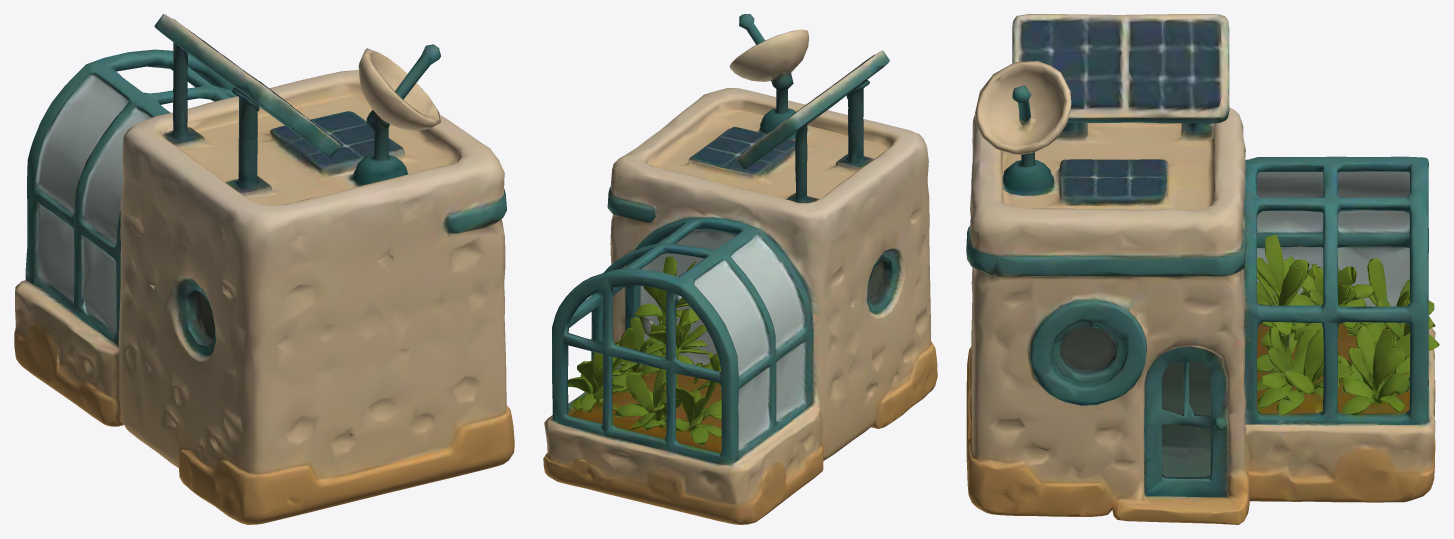
The model's file is lab.glb.
3 renders of one model, left to right at view 1: azimuth 30°, elevation 25°; view 2: azimuth 150°, elevation 25°; view 3: azimuth 270°, elevation 25°, orthographic. The views are drawn at different scales.
Visible parts, largest first — view 1: tripo_node_7aa9dd98-f0ed-4bf8-b4dc-1bf23662b46a; view 2: tripo_node_7aa9dd98-f0ed-4bf8-b4dc-1bf23662b46a; view 3: tripo_node_7aa9dd98-f0ed-4bf8-b4dc-1bf23662b46a.
Part boxes in pixels (bbox=[...]): tripo_node_7aa9dd98-f0ed-4bf8-b4dc-1bf23662b46a: bbox=[14, 14, 514, 524]; tripo_node_7aa9dd98-f0ed-4bf8-b4dc-1bf23662b46a: bbox=[543, 14, 937, 524]; tripo_node_7aa9dd98-f0ed-4bf8-b4dc-1bf23662b46a: bbox=[966, 14, 1439, 524].
Size of the model in its own units: 0.6839 by 0.9383 by 1.
Materials: 1 (1 with a texture image).
